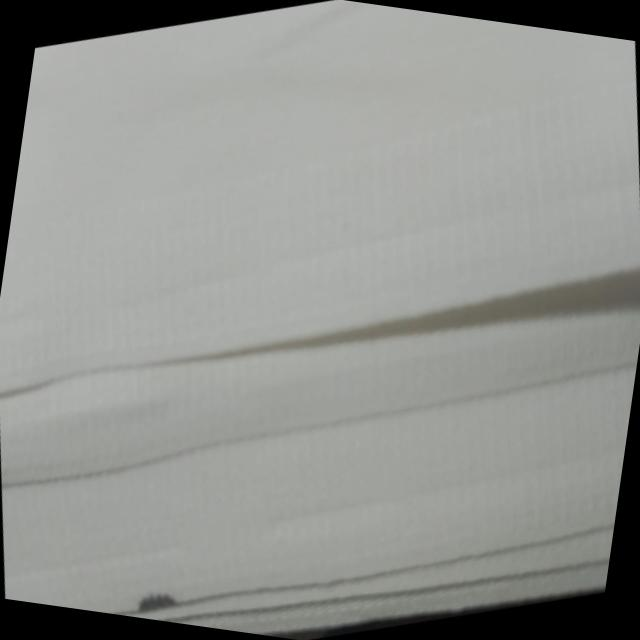stain: (128, 572, 198, 626)
